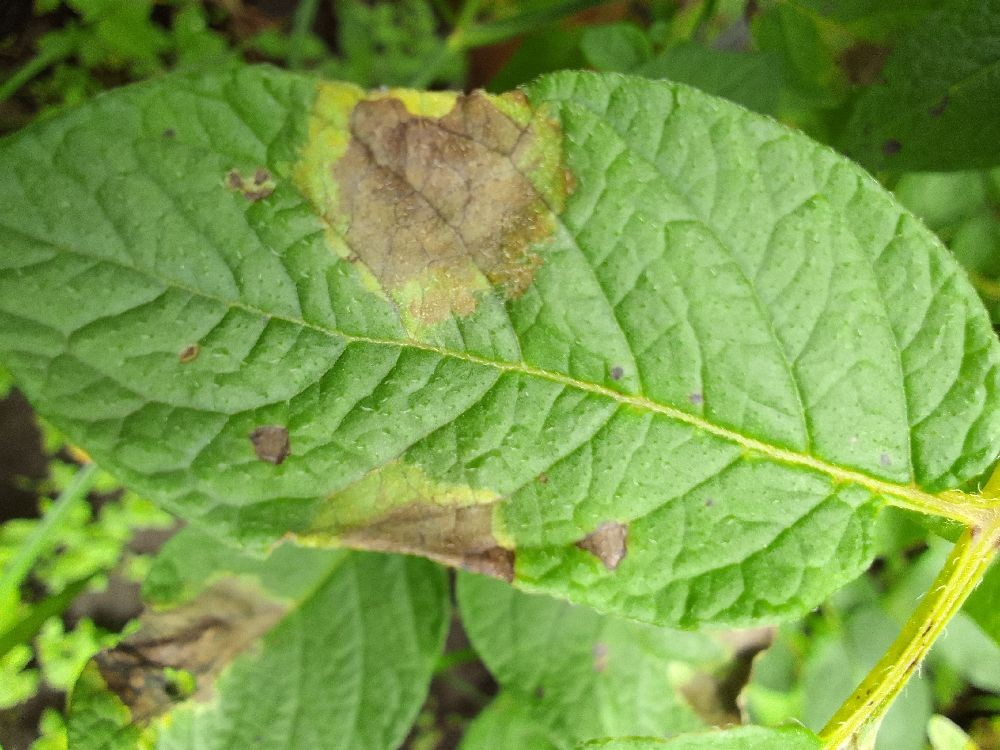late_blight: (307, 19, 592, 342), (37, 550, 308, 748), (323, 480, 536, 613), (0, 372, 105, 544)
